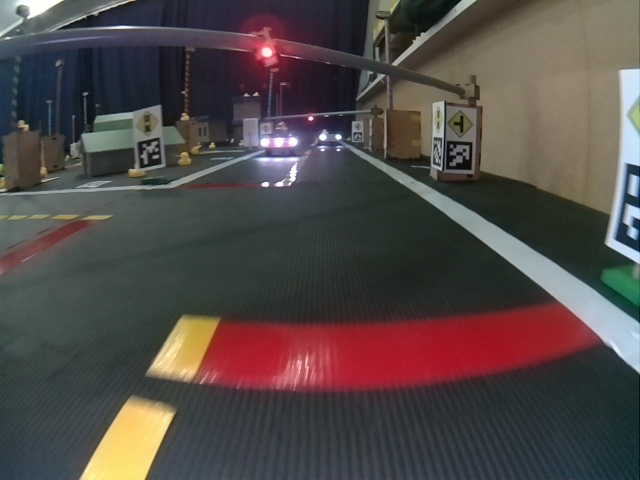Duckiebot: (262, 132, 298, 155), (319, 133, 342, 144)
Intersection sign: (447, 110, 473, 137), (353, 123, 363, 132)
QR code: (615, 160, 638, 252), (447, 141, 472, 170), (138, 139, 162, 166), (432, 136, 442, 167), (353, 134, 363, 142)
Signal sign: (136, 111, 160, 135), (434, 106, 444, 134)
Traffic light: (251, 29, 281, 71)
